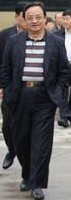boots: (1, 152, 14, 169), (19, 178, 30, 191)
hard-hat: (62, 0, 71, 10)
